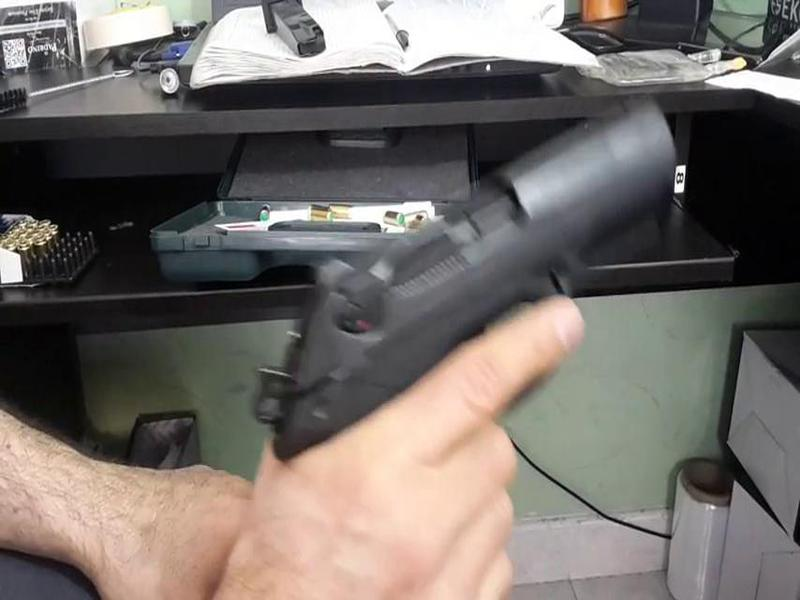Pistola: (254, 99, 661, 461)
